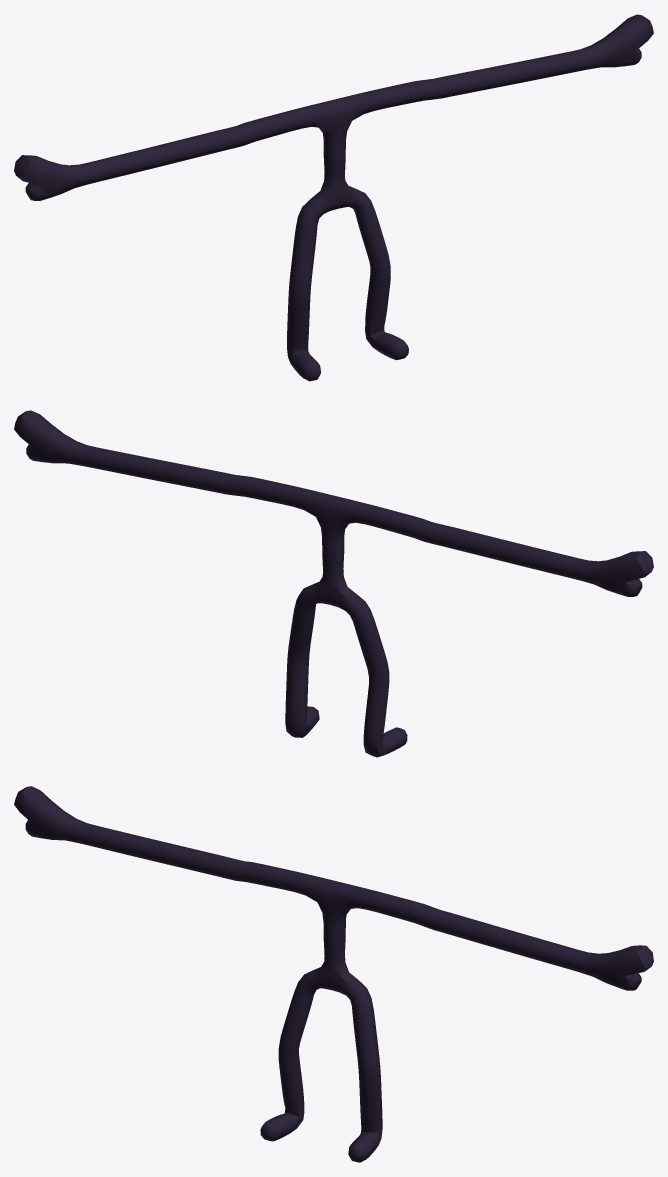
The model's file is corn-skeleton.fbx.
The picture shows the model from 3 angles, top to bottom: view 1: azimuth 30°, elevation 25°; view 2: azimuth 150°, elevation 25°; view 3: azimuth 330°, elevation 25°; orthographic projection.
Parts seen in each view (by area): view 1: corn-skeleton; view 2: corn-skeleton; view 3: corn-skeleton.
Part boxes in pixels (x1,y1,x2,y2): corn-skeleton: (14,14,653,381); corn-skeleton: (14,410,653,757); corn-skeleton: (14,786,653,1162).
Bounding box in the file's own units: 2.68 × 1.1 × 0.2378.
